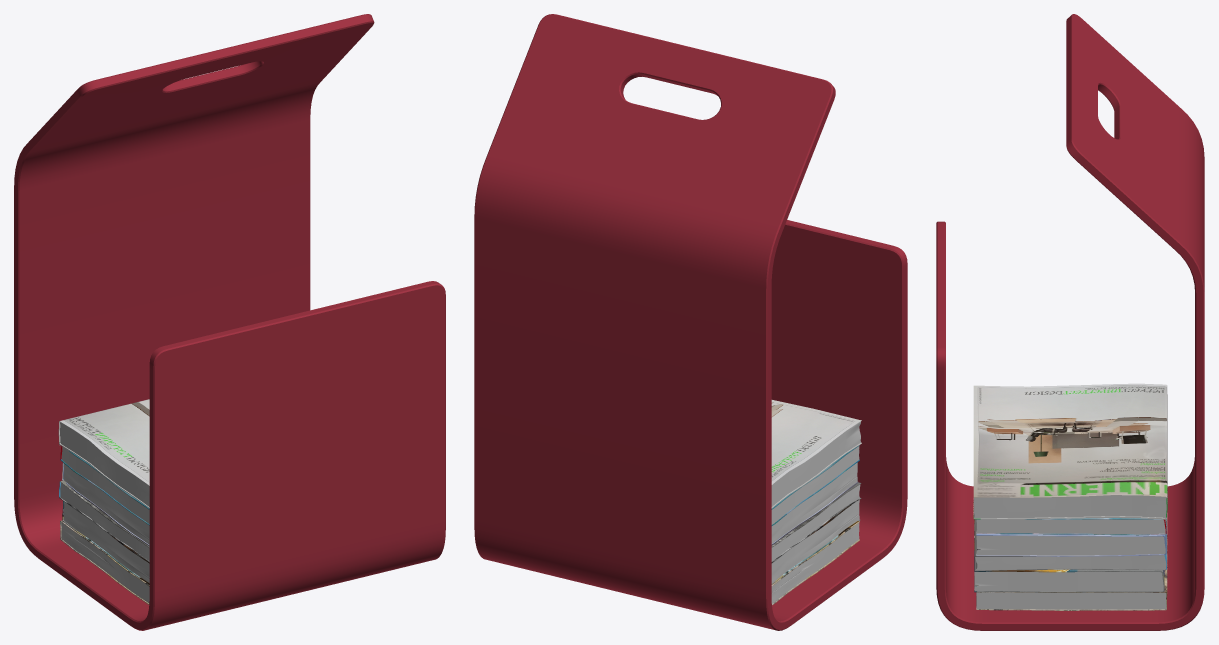
Rendered from Artek_Kanto_Rack_m_mat(3).fbx.
The picture shows the model from 3 angles, left to right: view 1: azimuth 30°, elevation 25°; view 2: azimuth 150°, elevation 25°; view 3: azimuth 270°, elevation 25°; orthographic projection. The views are drawn at different scales.
Visible parts, largest first — view 1: Artek_Kanto_Rack_m_mat3; view 2: Artek_Kanto_Rack_m_mat3; view 3: Artek_Kanto_Rack_m_mat3.
Part boxes in pixels (left/top/right/bottom): Artek_Kanto_Rack_m_mat3: left=14, top=14, right=445, bottom=630; Artek_Kanto_Rack_m_mat3: left=474, top=14, right=907, bottom=630; Artek_Kanto_Rack_m_mat3: left=936, top=14, right=1204, bottom=630.
Size of the model in its own units: 34 by 28.3 by 56.5.
